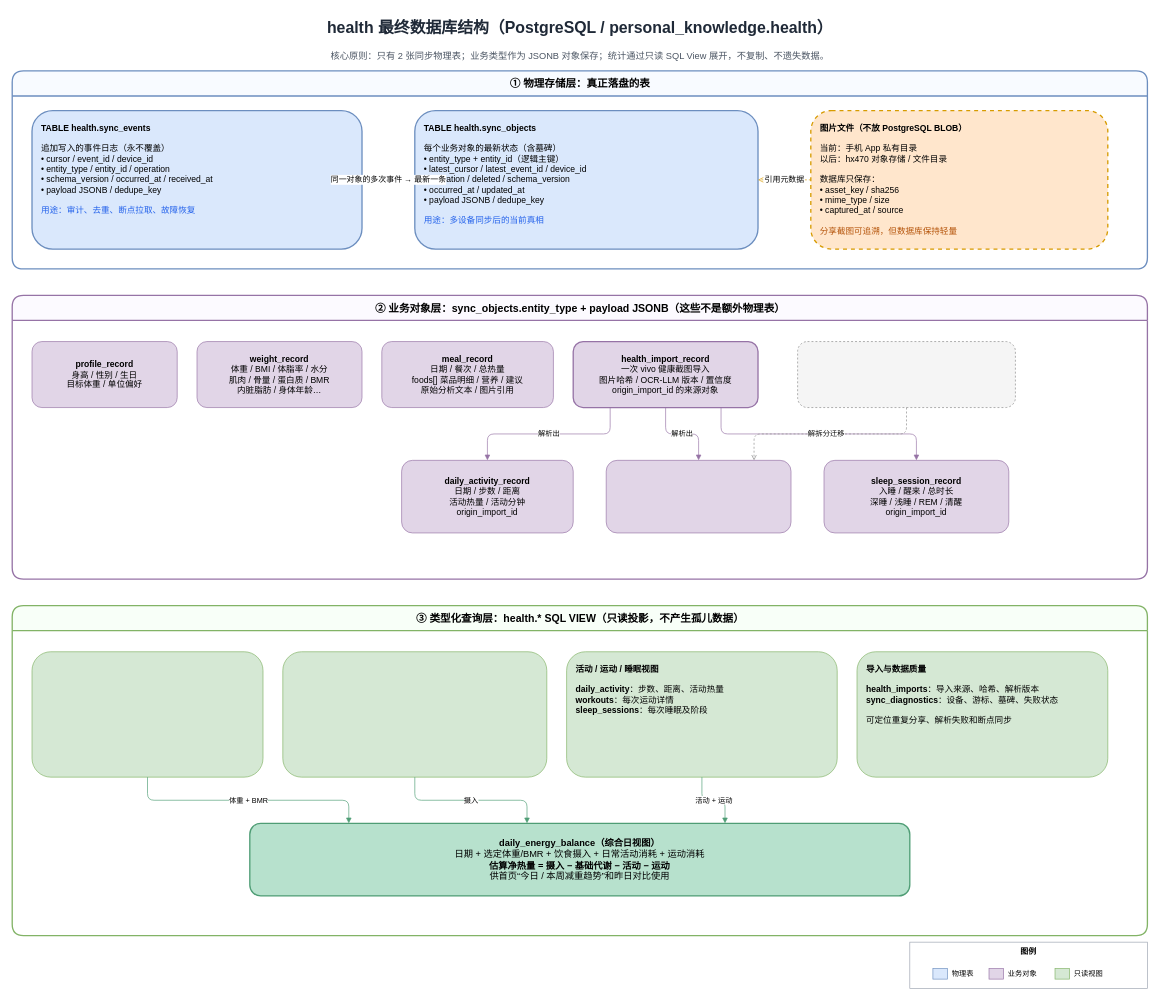
This 1159x1000 diagram has some shape labels left out. Each missing label, with the centre of its shape:
daily_wellness_record （旧） 当前已有 1 条运动截图对象 迁移后写 tombstone，事件历史保留: (x=906, y=374)
workout_record 运动类型 / 开始结束时间 距离 / 热量 / 平均与最高心率 origin_import_id: (x=698, y=496)
体重域视图 weight_measurements 展开所有体成分字段 daily_weight 每天 14:00 前最后一次；首日无此限制: (x=147, y=714)
饮食域视图 meals ：每顿汇总 meal_foods ：foods[] 展开，每项保留 meal_id daily_nutrition ：每日热量与营养汇总: (x=414, y=714)
